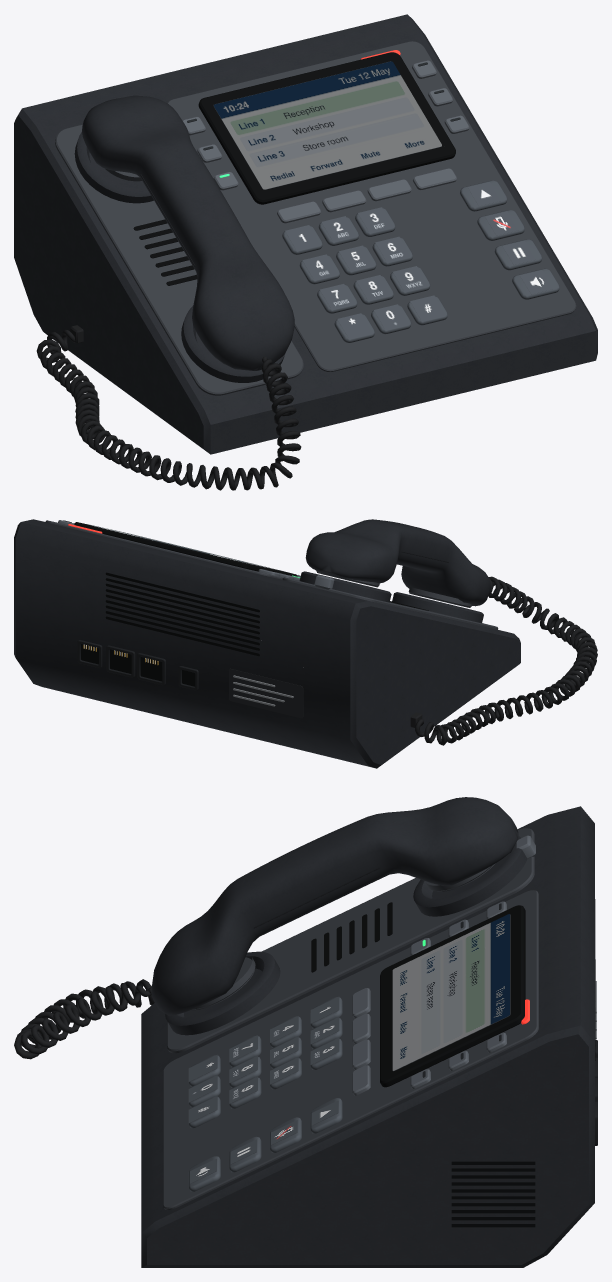
The model's file is desk-phone.glb.
3 renders of one model, top to bottom at view 1: azimuth 30°, elevation 25°; view 2: azimuth 150°, elevation 25°; view 3: azimuth 270°, elevation 25°, orthographic. The views are drawn at different scales.
Visible parts, largest first — view 1: Base, Handset, Cord; view 2: Base, Handset, Cord; view 3: Base, Handset, Cord.
Boxes of the visible parts, x1=… form: Base: x1=14, y1=14, x2=597, y2=454; Handset: x1=82, y1=95, x2=294, y2=370; Cord: x1=36, y1=325, x2=301, y2=490; Base: x1=14, y1=519, x2=520, y2=768; Handset: x1=305, y1=519, x2=490, y2=607; Cord: x1=410, y1=576, x2=597, y2=745; Base: x1=141, y1=806, x2=597, y2=1267; Handset: x1=151, y1=797, x2=518, y2=1015; Cord: x1=14, y1=979, x2=154, y2=1059.
Size of the model in its own units: 0.2707 by 0.1261 by 0.2444.
Materials: 17 (3 with a texture image).
